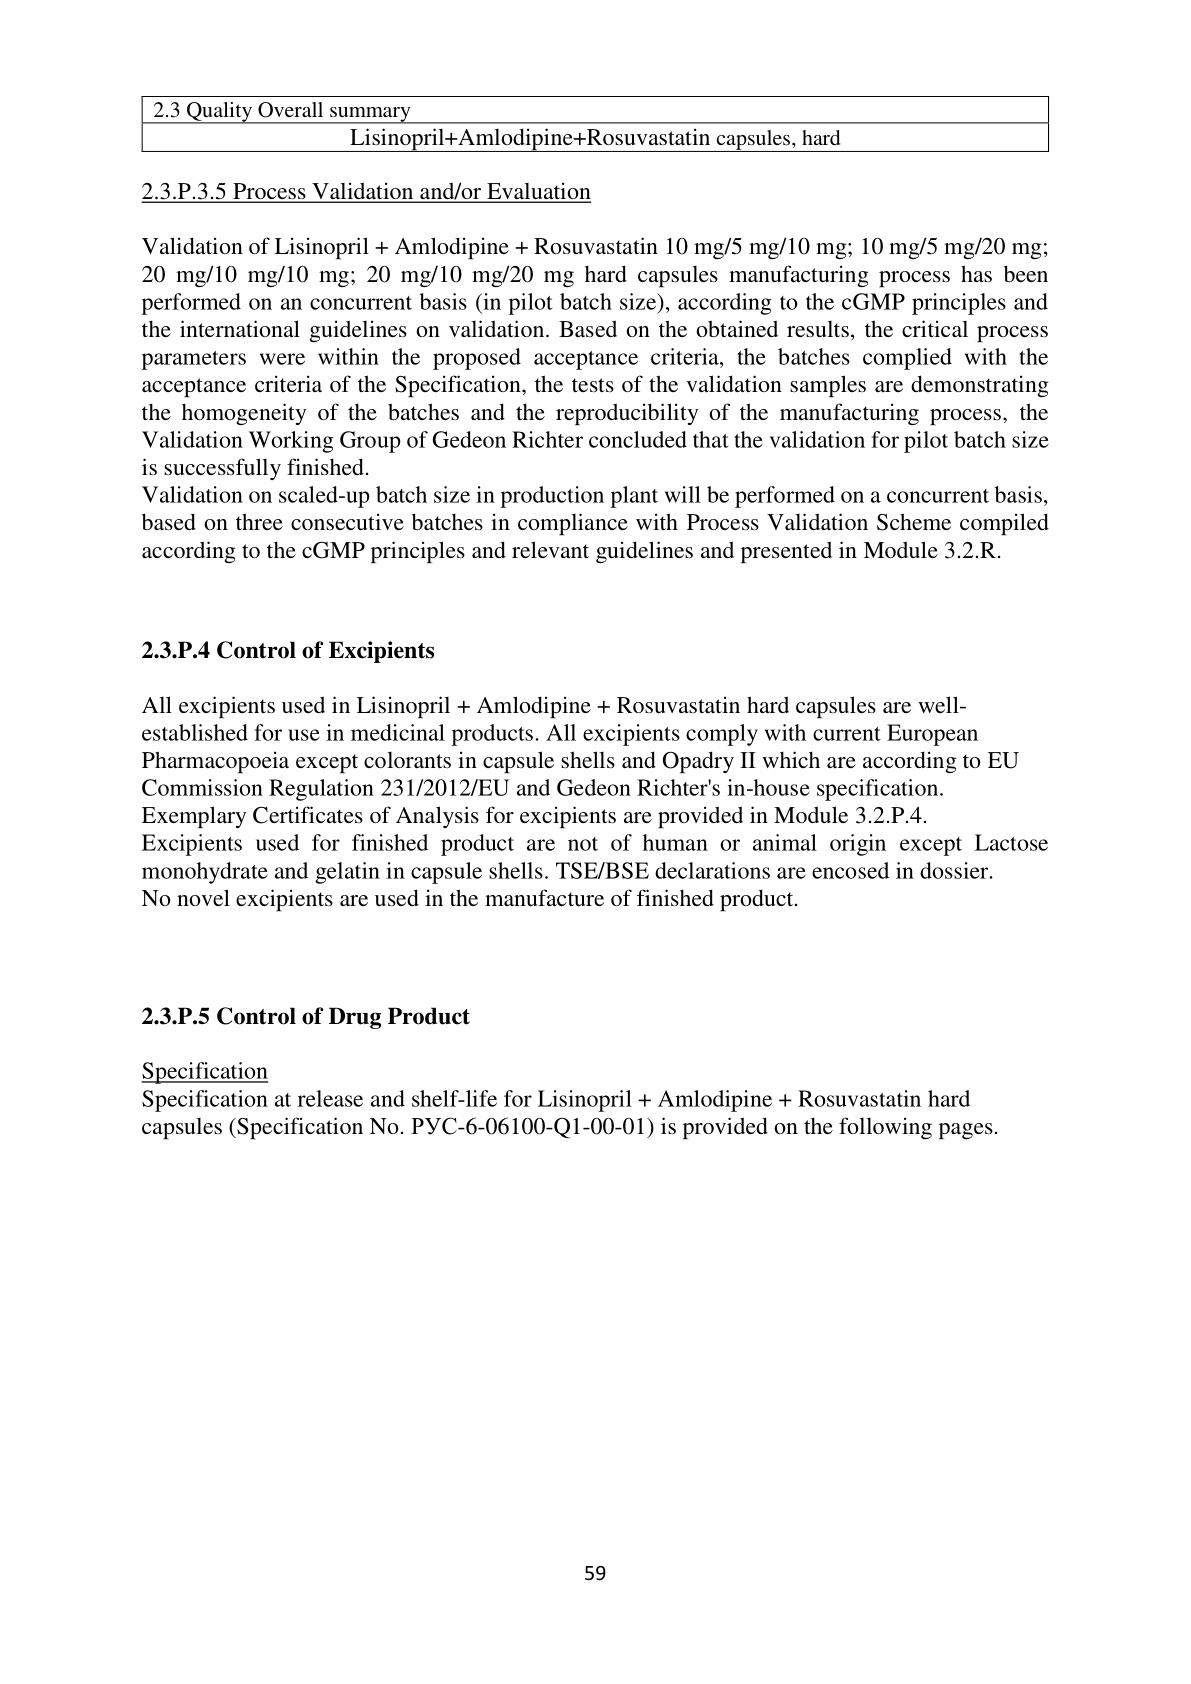full_lined: (140, 95, 1049, 153)
